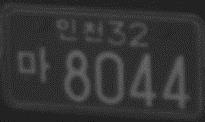0: (94, 51, 125, 105)
2: (129, 21, 149, 48)
3: (107, 19, 126, 46)
4: (129, 52, 157, 106), (162, 55, 191, 107)
8: (63, 49, 91, 102)
마: (17, 47, 51, 83)
인천_O: (55, 18, 104, 43)
